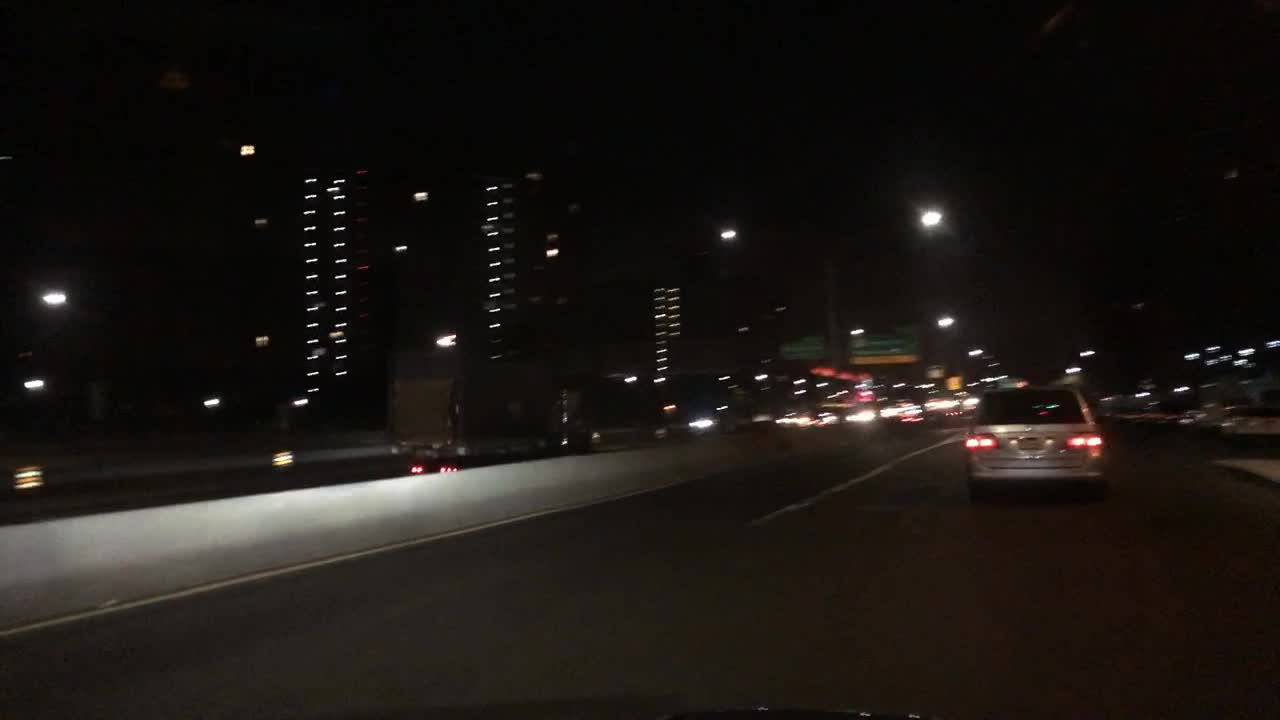car: (960, 377, 1107, 493), (658, 396, 753, 438), (1206, 386, 1276, 440), (1174, 395, 1248, 440), (406, 441, 479, 474), (536, 421, 609, 454), (1112, 385, 1156, 428), (1151, 387, 1187, 431), (876, 397, 922, 419), (811, 402, 852, 426), (924, 389, 963, 408), (776, 408, 811, 429), (1098, 391, 1112, 419)
traffic sign: (848, 327, 916, 364), (777, 331, 831, 360), (920, 364, 944, 378), (944, 376, 961, 391)
